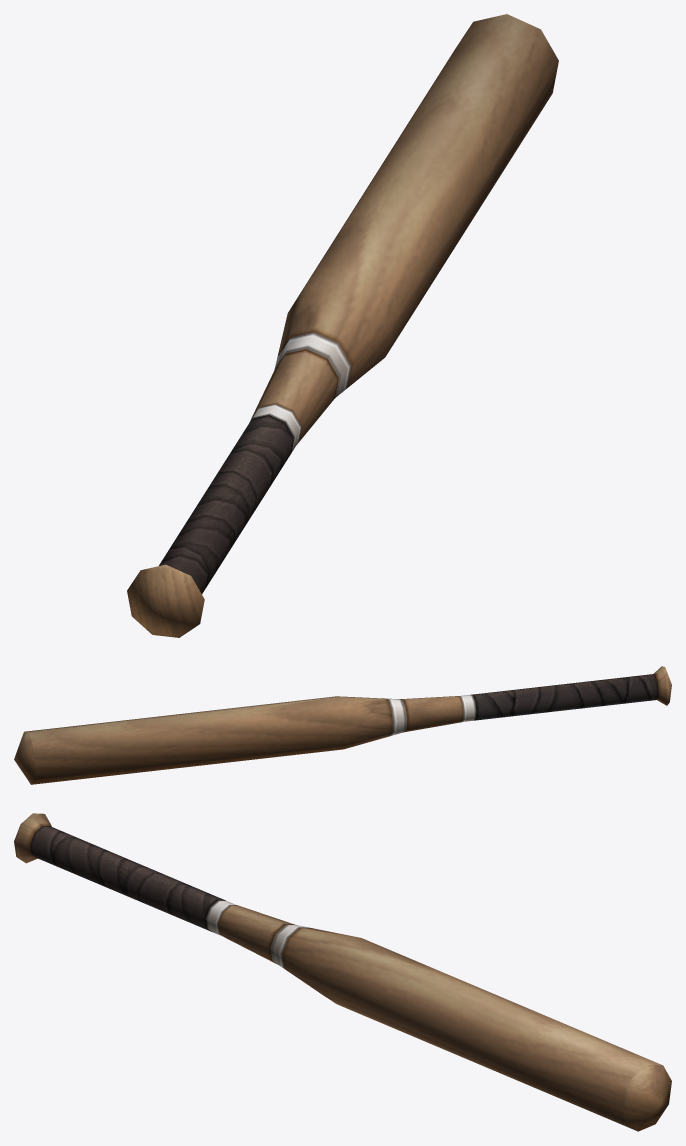
File: JiaoWaiSenLin_bangqiugun_01.FBX
3 renders of one model, top to bottom at view 1: azimuth 30°, elevation 25°; view 2: azimuth 150°, elevation 25°; view 3: azimuth 270°, elevation 25°, orthographic. The views are drawn at different scales.
Visible parts, largest first — view 1: JiaoWaiSenLin_bangqiugun_01; view 2: JiaoWaiSenLin_bangqiugun_01; view 3: JiaoWaiSenLin_bangqiugun_01.
Boxes of the visible parts, box(x1,y1,x2,y2) form: JiaoWaiSenLin_bangqiugun_01: box(127, 14, 558, 637); JiaoWaiSenLin_bangqiugun_01: box(14, 666, 671, 784); JiaoWaiSenLin_bangqiugun_01: box(14, 813, 671, 1131).
Bounding box in the file's own units: 532 × 56.34 × 532.
